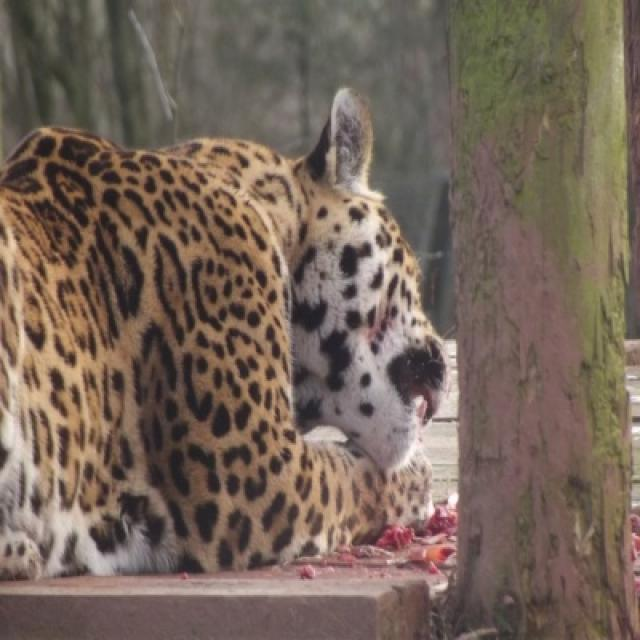Jaguar: (0, 86, 448, 586)
